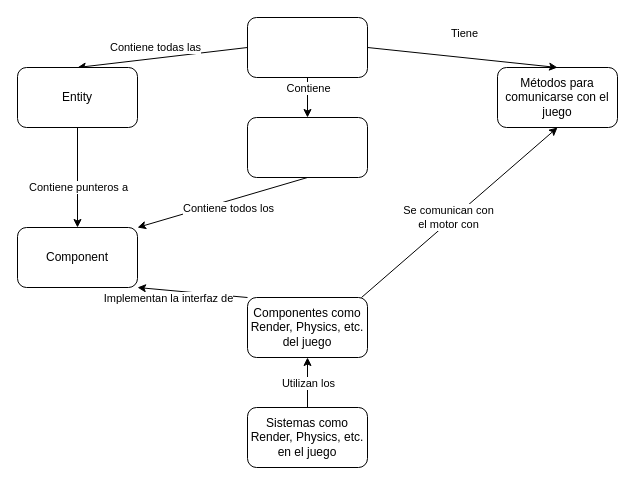
This 635x485 diagram has some shape labels left out. The shapes that lost their labels are listed below. From the top down, each one's centre as x and y in pixels, then its label:
pixel 307 47: EntityManager
pixel 307 147: Vector de Component
